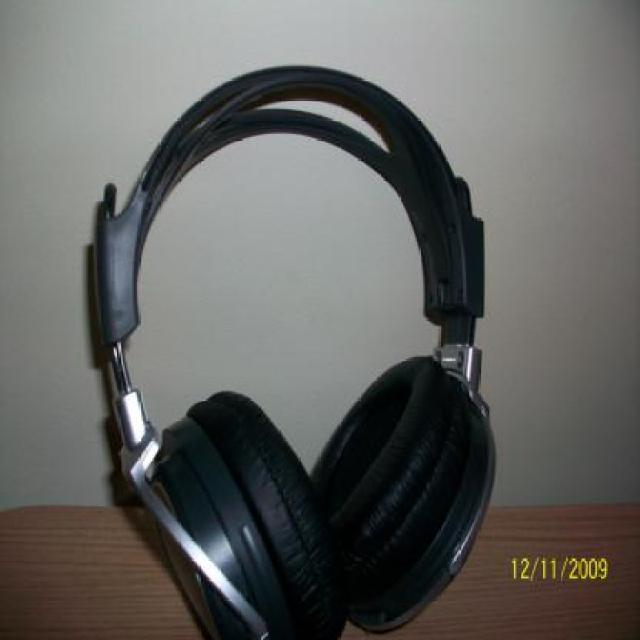earphone: (68, 24, 502, 638)
